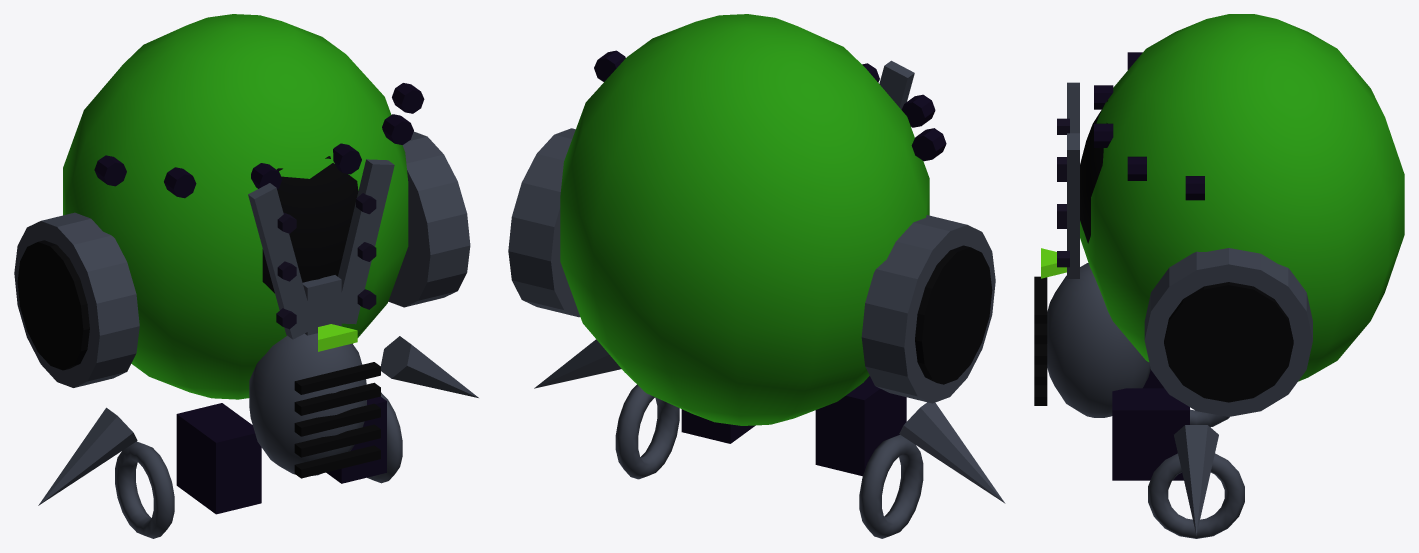
The model's file is Enemy_invader.fbx.
The picture shows the model from 3 angles, left to right: view 1: azimuth 30°, elevation 25°; view 2: azimuth 150°, elevation 25°; view 3: azimuth 270°, elevation 25°; orthographic projection. The views are drawn at different scales.
Visible parts, largest first — view 1: Enemy_invader; view 2: Enemy_invader; view 3: Enemy_invader.
Part boxes in pixels (x1,y1,x2,y2): Enemy_invader: (14, 14, 478, 538); Enemy_invader: (508, 14, 1005, 538); Enemy_invader: (1034, 14, 1404, 538).
Bounding box in the file's own units: 0.7749 × 0.776 × 0.5711.
